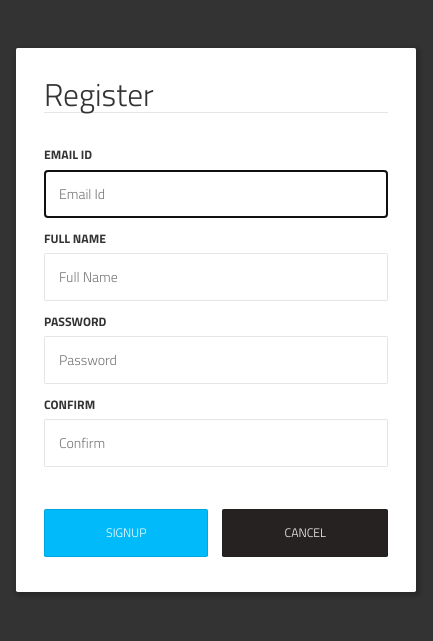
it: <SignUpPage/> › should show an error message if id is not a valid email
Type "admin" into the field with placeholder "Email Id" at (216, 194), box [44,170,388,218]
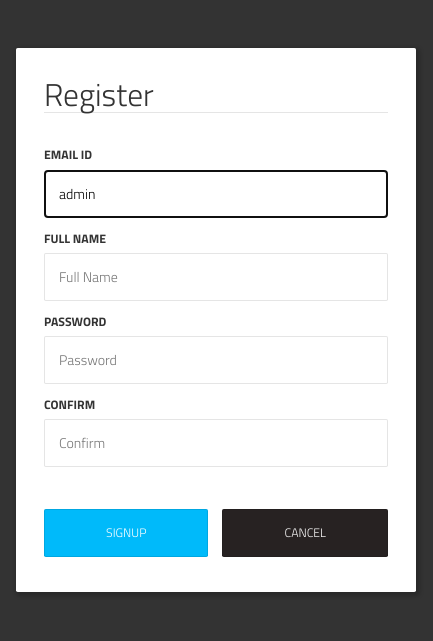
Click the button "Signup" at (126, 533), box [44,509,208,557]
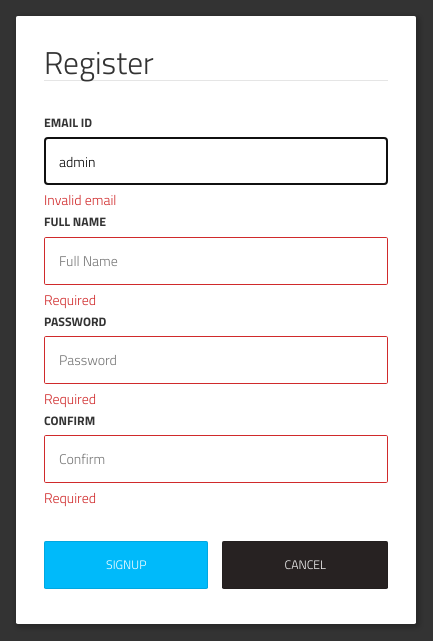
Now the text with class "error-text" reads "Invalid email", box [44,189,116,210]
